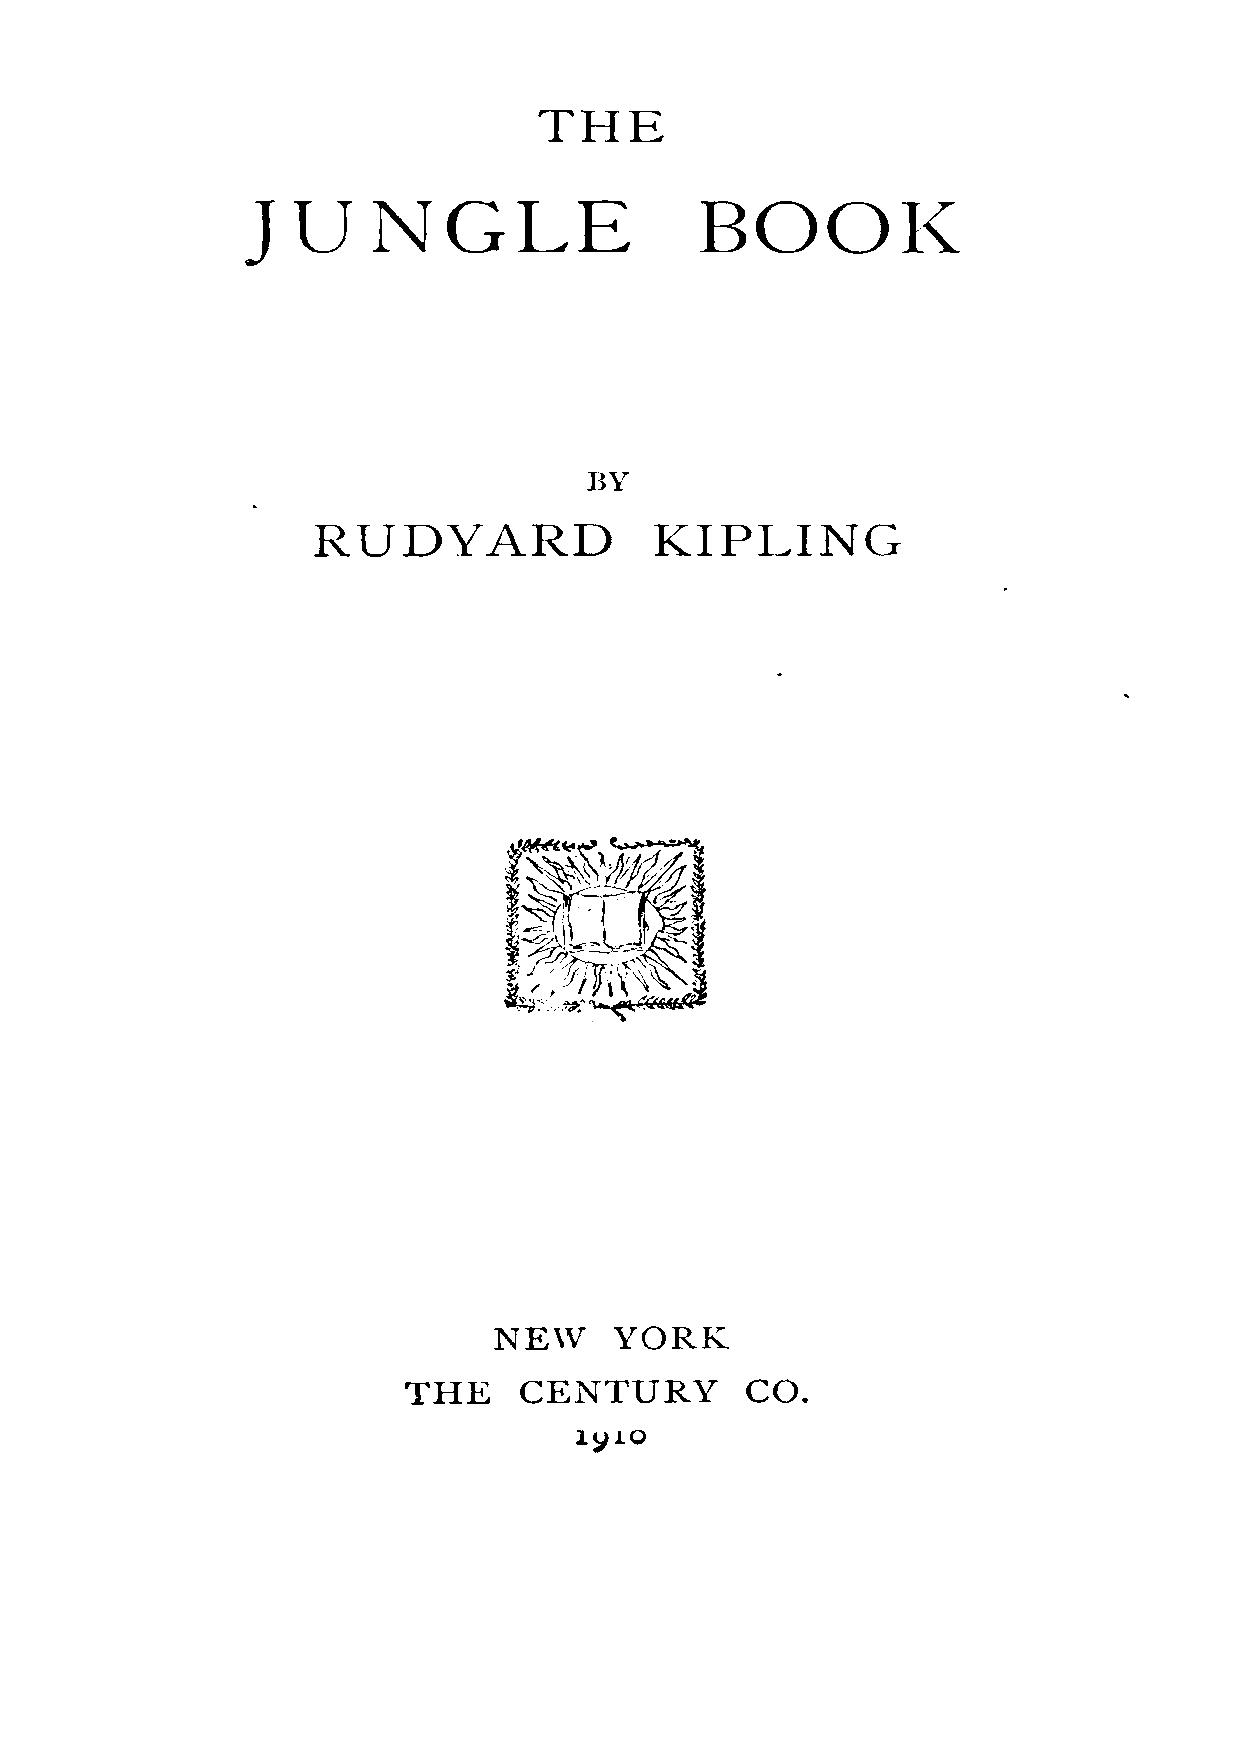author: (306, 467, 902, 562)
title: (238, 106, 960, 268)
